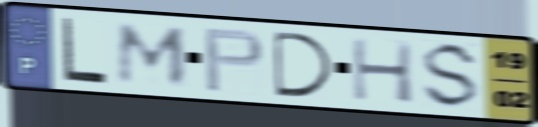D: (269, 28, 338, 100)
H: (348, 35, 417, 106)
L: (60, 15, 110, 86)
M: (114, 21, 191, 88)
P: (201, 26, 268, 94)
S: (418, 40, 484, 111)
